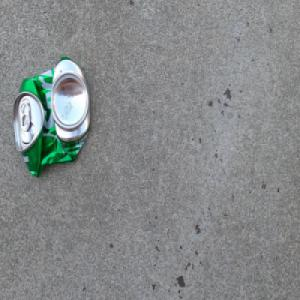SodaCan: (12, 54, 91, 177)
